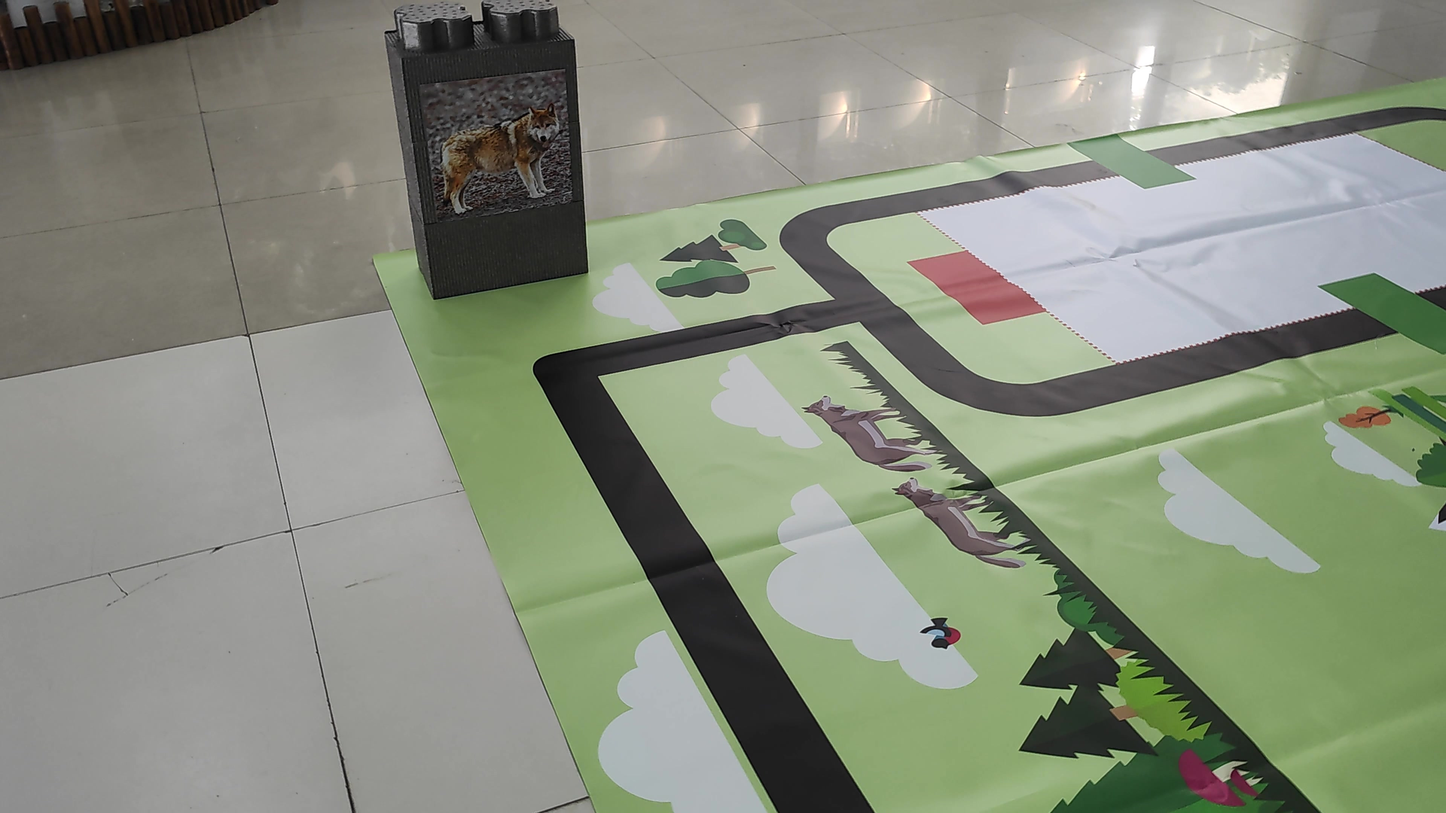wolf: (431, 96, 580, 235)
